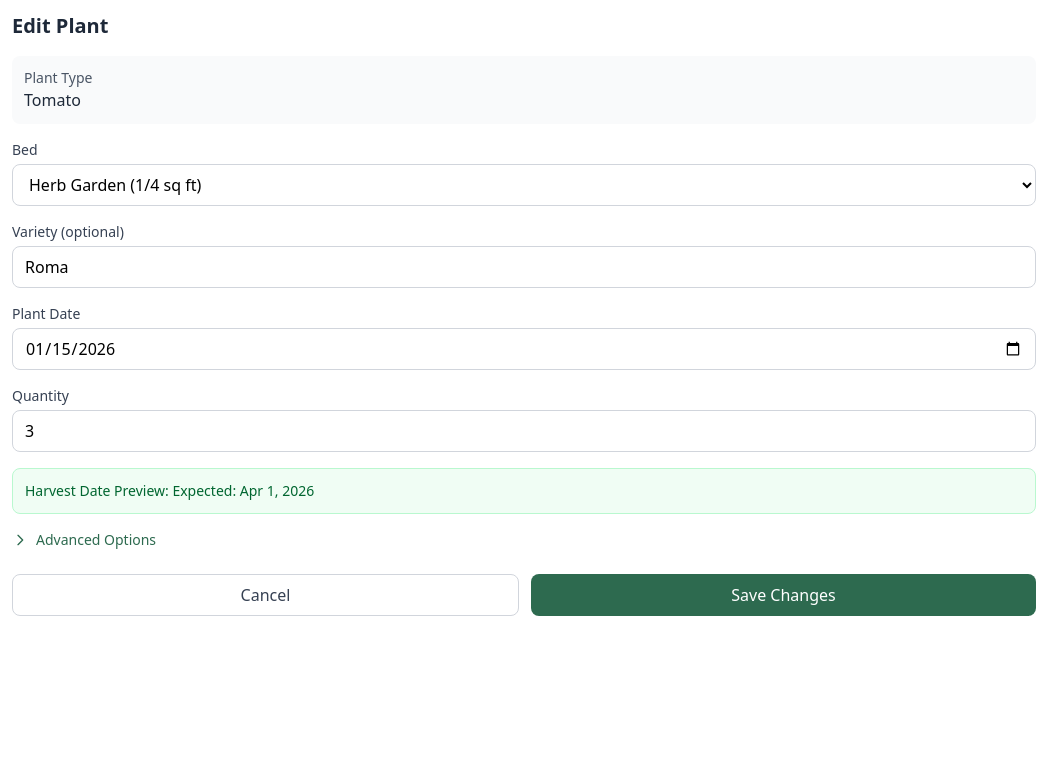
Test: PlantForm › edit mode rendering › pre-fills advanced options with existing overrides
Click the button "Advanced Options" at (84, 540), box 12,530 -> 156,550
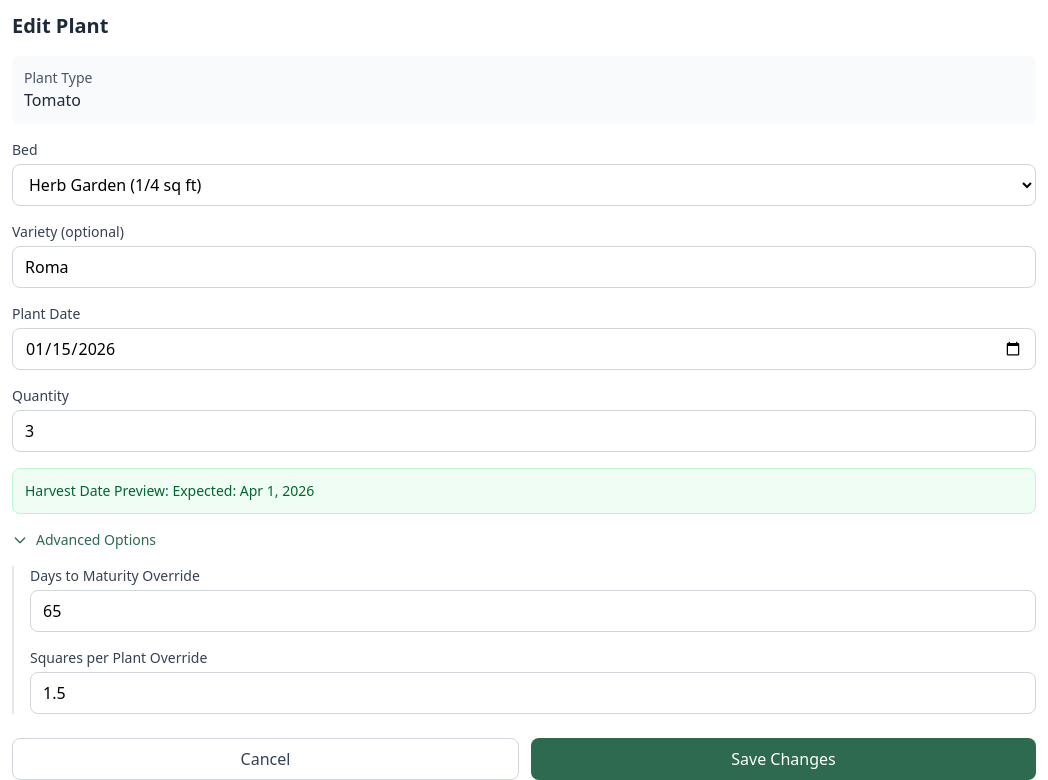
Expected: the number field labelled "Days to Maturity Override" holds "65", 30,590 -> 1036,632
Expected: the number field labelled "Squares per Plant Override" holds "1.5", 30,672 -> 1036,714
